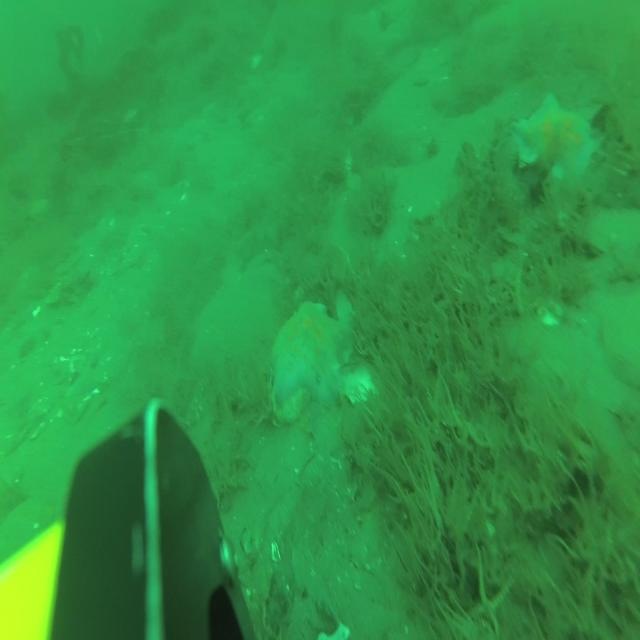scallop: (602, 294, 640, 381)
starfish: (271, 295, 355, 404), (514, 90, 599, 181)
